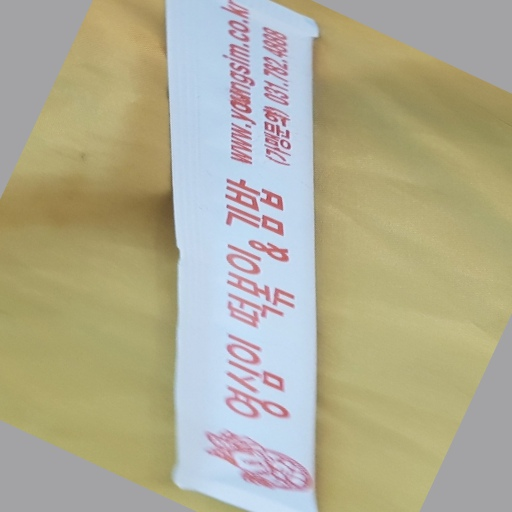Paper_2: (159, 1, 324, 512)
